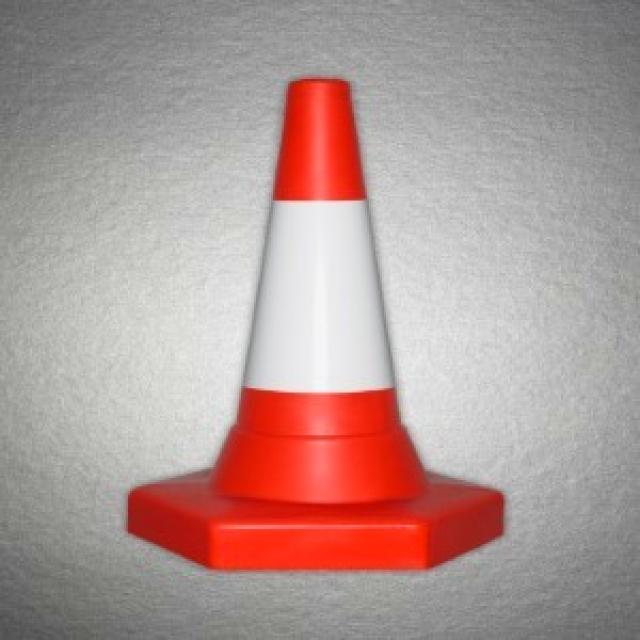cone: (126, 75, 503, 570)
